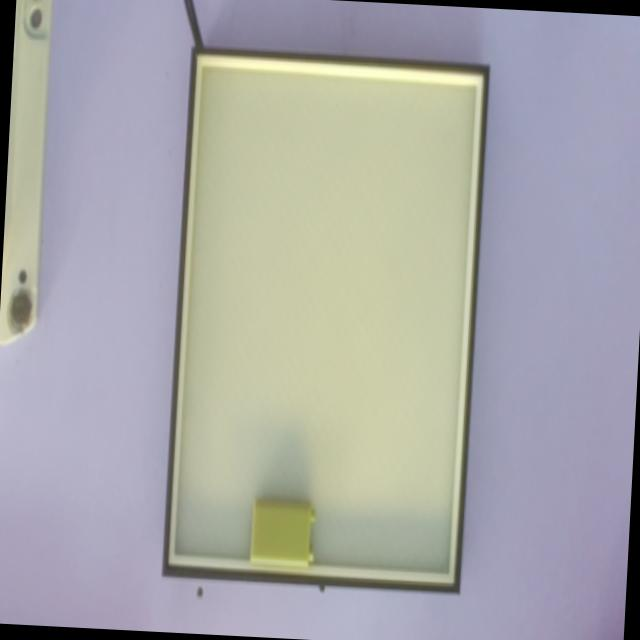bateria: (251, 498, 315, 568)
mesa: (162, 45, 490, 595)
